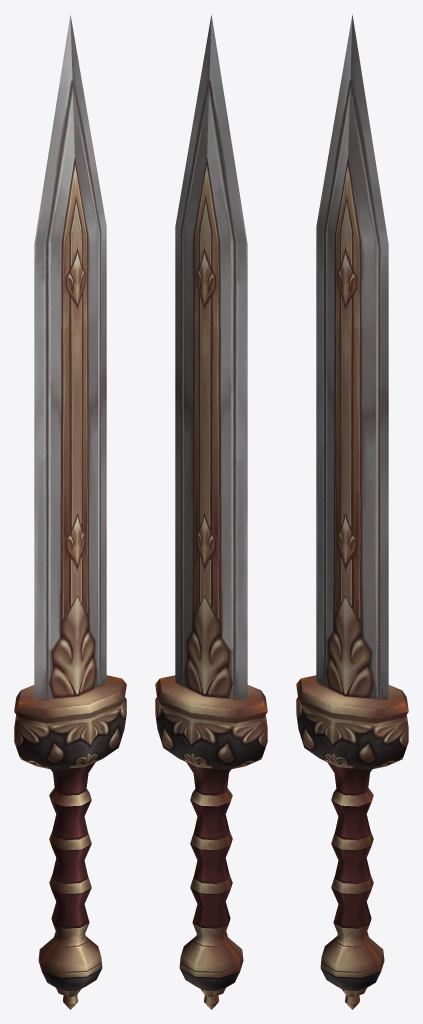
Rendered from Hero_Clause_Cos19NewYear_Sword.fbx.
The picture shows the model from 3 angles, left to right: view 1: azimuth 30°, elevation 25°; view 2: azimuth 150°, elevation 25°; view 3: azimuth 330°, elevation 25°; orthographic projection.
Parts seen in each view (by area): view 1: Hero_Clause_Cos19NewYear_Sword; view 2: Hero_Clause_Cos19NewYear_Sword; view 3: Hero_Clause_Cos19NewYear_Sword.
Part boxes in pixels (x1,y1,x2,y2): Hero_Clause_Cos19NewYear_Sword: (14,14,126,1009); Hero_Clause_Cos19NewYear_Sword: (155,14,267,1009); Hero_Clause_Cos19NewYear_Sword: (296,14,408,1009).
Bounding box in the file's own units: 0.221 × 1.87 × 0.1383.
1 material, 1 textured.
